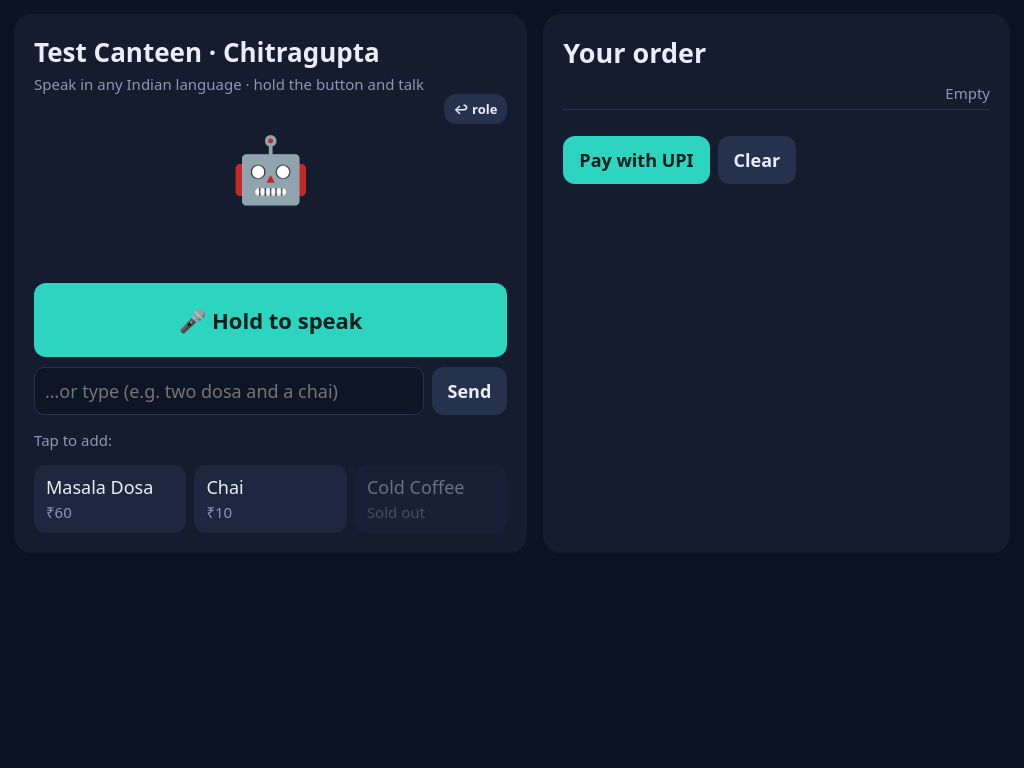
Test case: Counter › increase and remove edit the cart locally
Click the button "Chai₹10" at point(271, 499), box top-left (194, 465), bottom-right (347, 533)
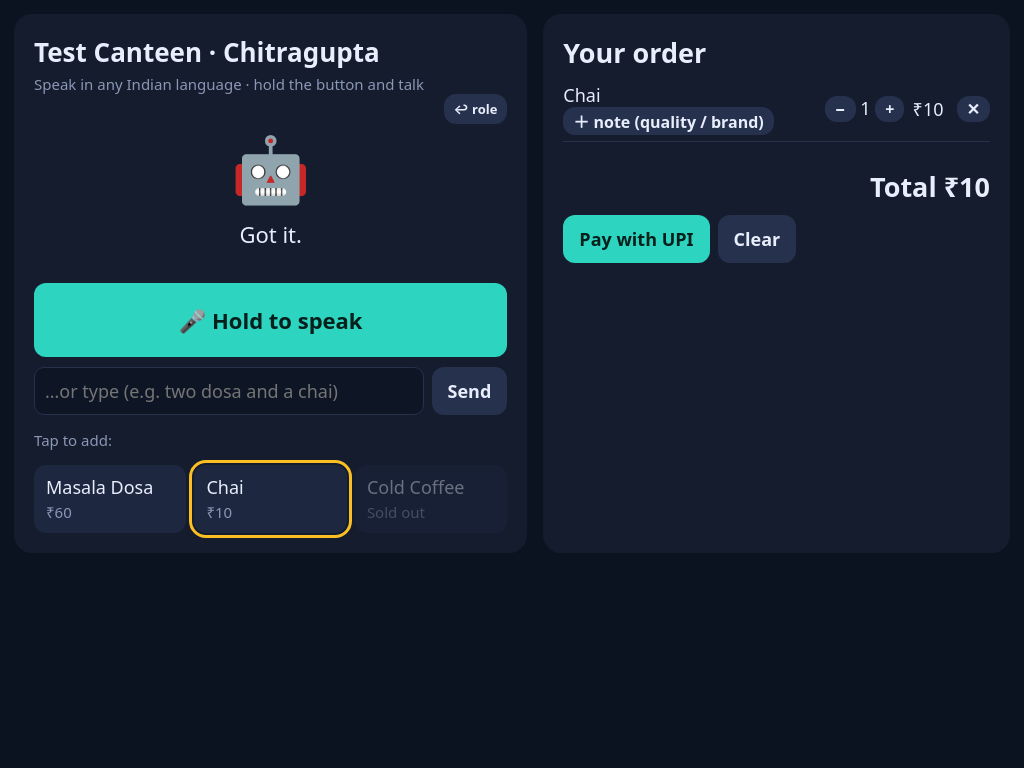
Click the button named "Increase Chai" at point(890, 109), box top-left (875, 96), bottom-right (904, 122)
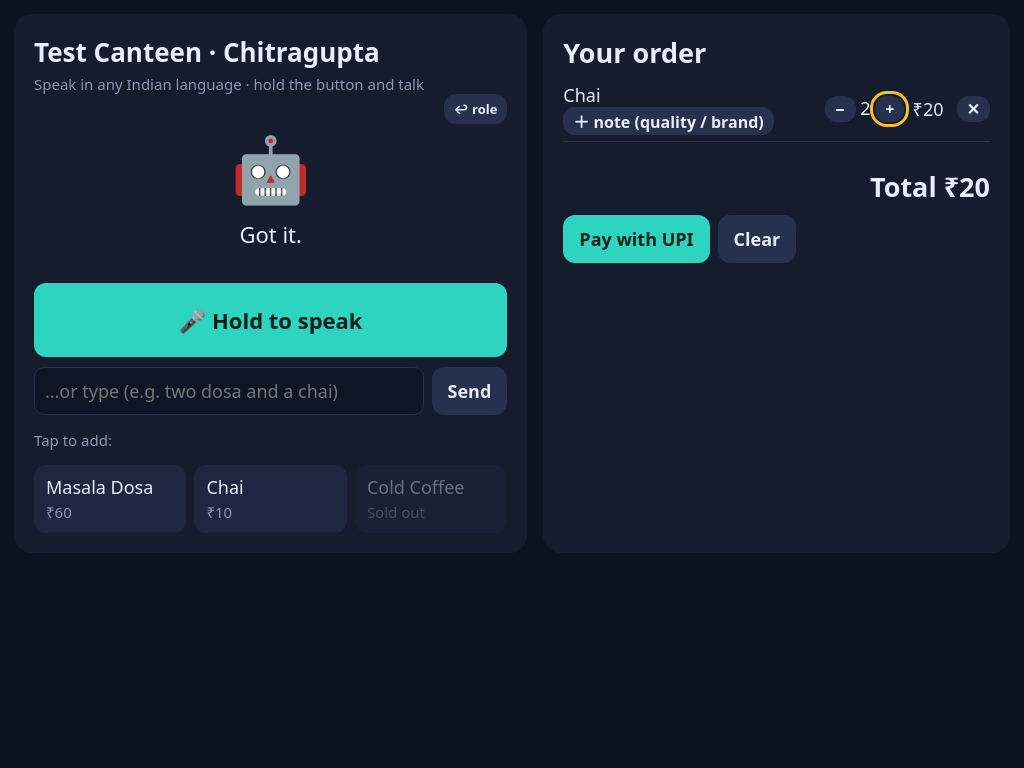
expect the heading "Total ₹20" is shown: met, box top-left (870, 168), bottom-right (990, 205)
Click the button named "Remove Chai" at point(973, 109), box top-left (957, 96), bottom-right (990, 122)
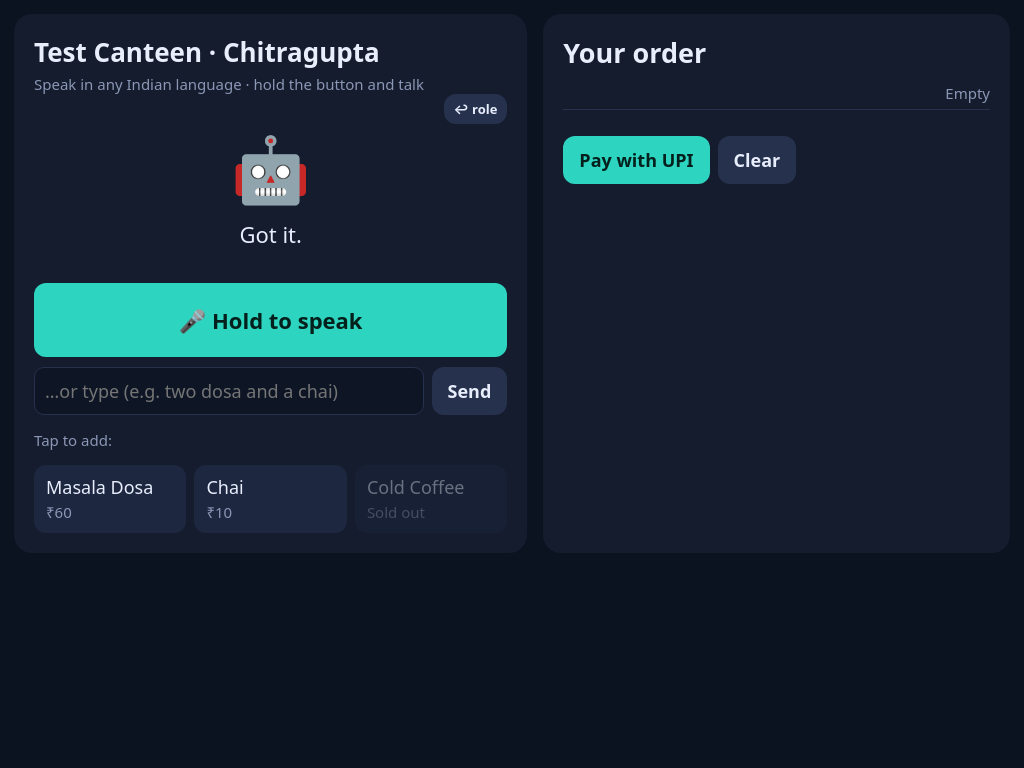
expect the text "Empty" is shown: met, box top-left (563, 77), bottom-right (990, 110)
